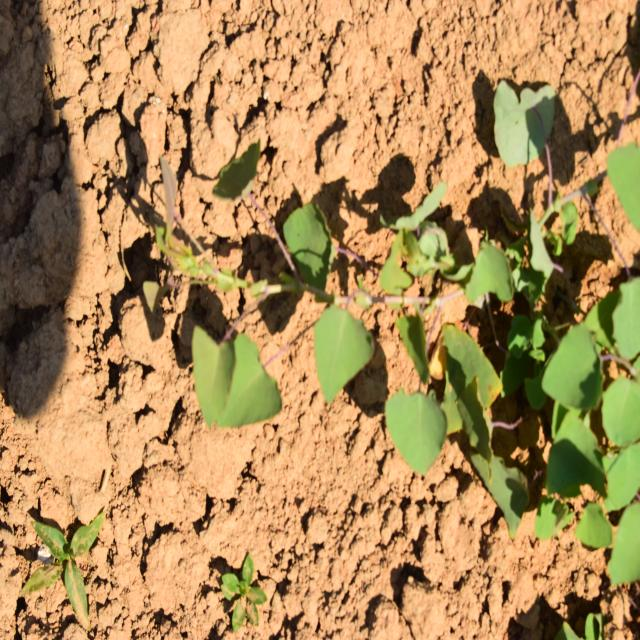Asiatic_Smartweed: (133, 135, 293, 427), (526, 286, 640, 577), (296, 293, 446, 472)
